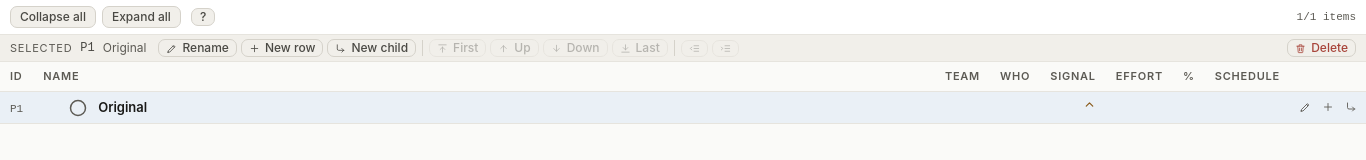
it: tree editor — keyboard model › Esc cancels without changing the name
Step 1. Press Enter in the element with test id "tree-editor-surface"
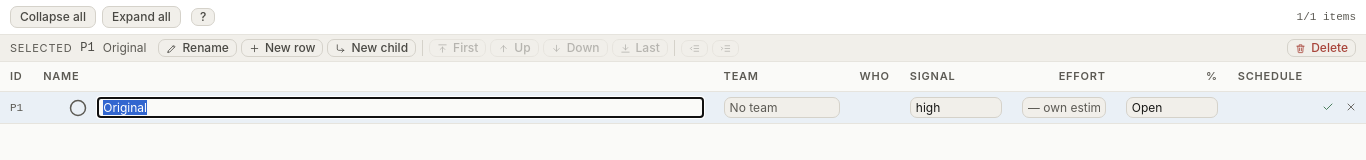
Step 2. Replace the text in the field with test id "tree-name-input-P1" with "Changed but abandoned" → coordinates (400, 107), box 97,96 -> 704,118
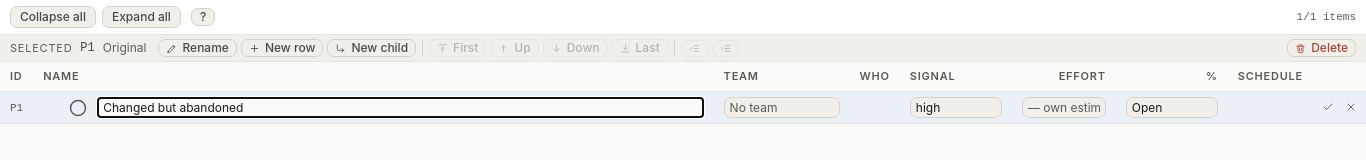
Step 3. Press Escape in the field with test id "tree-name-input-P1", box 97,96 -> 704,118
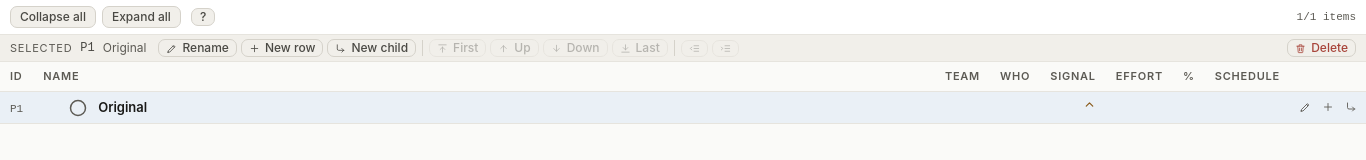
Check: the field with test id "tree-name-input-P1" is gone
Check: the text "Original" below "ID" is shown, box 98,98 -> 147,114
